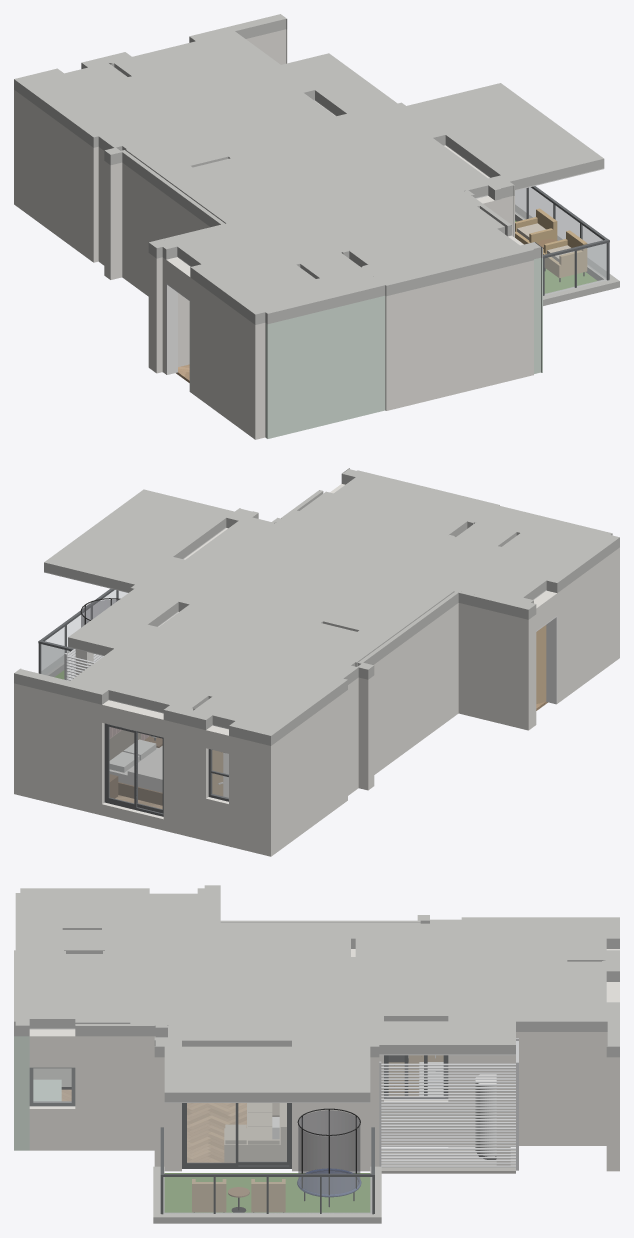
File: apartment.glb
3 renders of one model, top to bottom at view 1: azimuth 30°, elevation 25°; view 2: azimuth 150°, elevation 25°; view 3: azimuth 270°, elevation 25°, orthographic. The views are drawn at different scales.
Parts seen in each view (by area): view 1: Roof__living__3, Wall__living__0, Wall__kids__12, Roof__bedroom__5, Wall__bedroom__34, Roof__balcony__0, Roof__kids__4, Wall__living__13, Roof__kitchen__2, Wall__living__35, Roof__guestbath__7, Roof__ensuite__6 (+24 smaller); view 2: Roof__living__3, Wall__living__35, Wall__bedroom__34, Roof__bedroom__5, Roof__balcony__0, Wall__service__66, Roof__kids__4, Wall__living__13, Roof__kitchen__2, Wall__ensuite__40, Roof__guestbath__7, Roof__service__1 (+26 smaller); view 3: Roof__living__3, Roof__bedroom__5, Roof__balcony__0, Wall__service__66, Wall__living__20, Roof__kids__4, Roof__kitchen__2, F__balcony__rail_e_glass, Wall__balcony__48, Roof__service__1, F__balcony__trampoline_net, Floor__balcony__0 (+43 smaller).
Boxes of the visible parts, x1=… form: Roof__living__3: x1=165, y1=126, x2=491, y2=291; Wall__living__0: x1=385, y1=260, x2=533, y2=410; Wall__kids__12: x1=266, y1=296, x2=385, y2=438; Roof__bedroom__5: x1=89, y1=34, x2=299, y2=172; Wall__bedroom__34: x1=14, y1=90, x2=122, y2=279; Roof__balcony__0: x1=407, y1=83, x2=604, y2=189; Roof__kids__4: x1=323, y1=199, x2=519, y2=278; Wall__living__13: x1=190, y1=277, x2=260, y2=439; Roof__kitchen__2: x1=185, y1=92, x2=368, y2=167; Wall__living__35: x1=122, y1=163, x2=210, y2=373; Roof__guestbath__7: x1=206, y1=250, x2=328, y2=309; Roof__ensuite__6: x1=36, y1=63, x2=157, y2=114; Roof__living__3: x1=167, y1=510, x2=547, y2=636; Wall__living__35: x1=373, y1=603, x2=536, y2=774; Wall__bedroom__34: x1=229, y1=675, x2=374, y2=856; Roof__bedroom__5: x1=82, y1=623, x2=383, y2=712; Roof__balcony__0: x1=44, y1=489, x2=234, y2=592; Wall__service__66: x1=14, y1=683, x2=104, y2=815; Roof__kids__4: x1=297, y1=476, x2=485, y2=553; Wall__living__13: x1=557, y1=547, x2=619, y2=703; Roof__kitchen__2: x1=157, y1=582, x2=335, y2=655; Wall__ensuite__40: x1=163, y1=720, x2=208, y2=840; Roof__guestbath__7: x1=483, y1=522, x2=605, y2=577; Roof__service__1: x1=68, y1=589, x2=180, y2=655; Roof__living__3: x1=26, y1=893, x2=350, y2=1046; Roof__bedroom__5: x1=355, y1=925, x2=606, y2=1015; Roof__balcony__0: x1=164, y1=1046, x2=370, y2=1102; Wall__service__66: x1=510, y1=1032, x2=619, y2=1171; Wall__living__20: x1=75, y1=1036, x2=155, y2=1150; Roof__kids__4: x1=26, y1=954, x2=155, y2=1028; Roof__kitchen__2: x1=324, y1=957, x2=450, y2=1021; F__balcony__rail_e_glass: x1=163, y1=1177, x2=371, y2=1213; Wall__balcony__48: x1=292, y1=1057, x2=372, y2=1171; Roof__service__1: x1=379, y1=1021, x2=515, y2=1054; F__balcony__trampoline_net: x1=298, y1=1110, x2=360, y2=1194; Floor__balcony__0: x1=164, y1=1173, x2=370, y2=1212.
Bounding box in the file's own units: 10.96 × 3.1 × 13.23.
39 materials, 1 textured.
